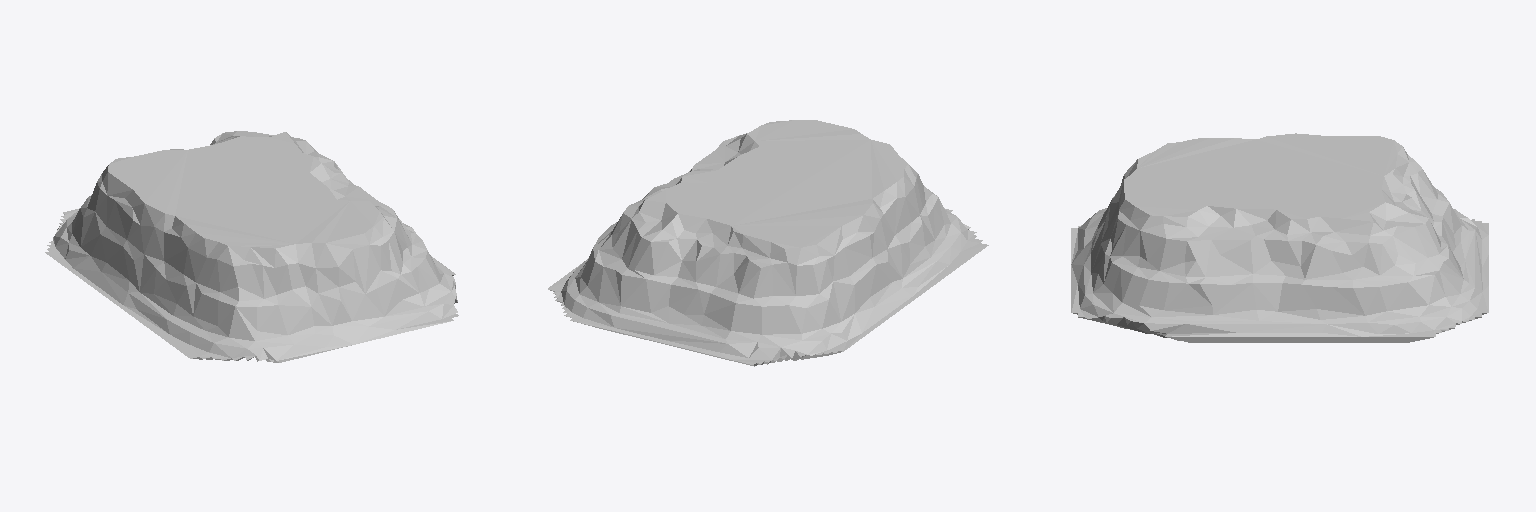
File: Float_IB.obj
3 renders of one model, left to right at view 1: azimuth 30°, elevation 25°; view 2: azimuth 150°, elevation 25°; view 3: azimuth 270°, elevation 25°, orthographic.
Visible parts, largest first — view 1: Tile_Landscape.007; view 2: Tile_Landscape.007; view 3: Tile_Landscape.007.
Boxes of the visible parts, x1,y1,x2,y2 form: Tile_Landscape.007: [45, 131, 458, 362]; Tile_Landscape.007: [548, 120, 988, 366]; Tile_Landscape.007: [1071, 133, 1488, 342].
Bounding box in the file's own units: 9.91 × 4.77 × 12.48.